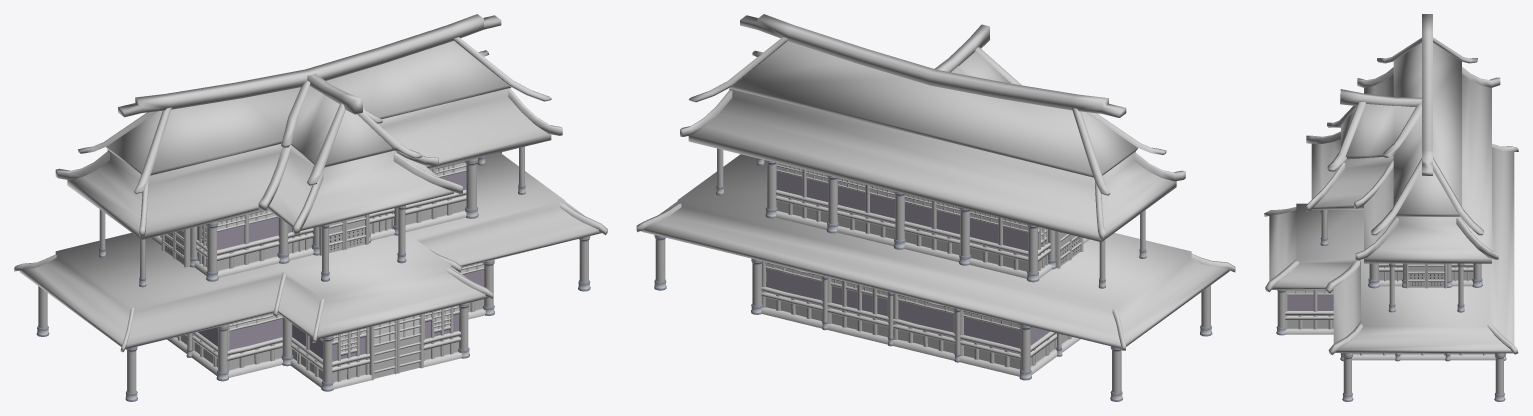
Rendered from Building_1.fbx.
3 views of the same model, side by side, from view 1: azimuth 30°, elevation 25°; view 2: azimuth 150°, elevation 25°; view 3: azimuth 270°, elevation 25° (orthographic). The views are drawn at different scales.
Parts seen in each view (by area): view 1: Building_1; view 2: Building_1; view 3: Building_1.
Boxes of the visible parts, left/top/right/bottom form: Building_1: left=14, top=14, right=607, bottom=401; Building_1: left=636, top=14, right=1235, bottom=401; Building_1: left=1264, top=14, right=1518, bottom=401.
Bounding box in the file's own units: 22.46 × 11.11 × 11.86.
